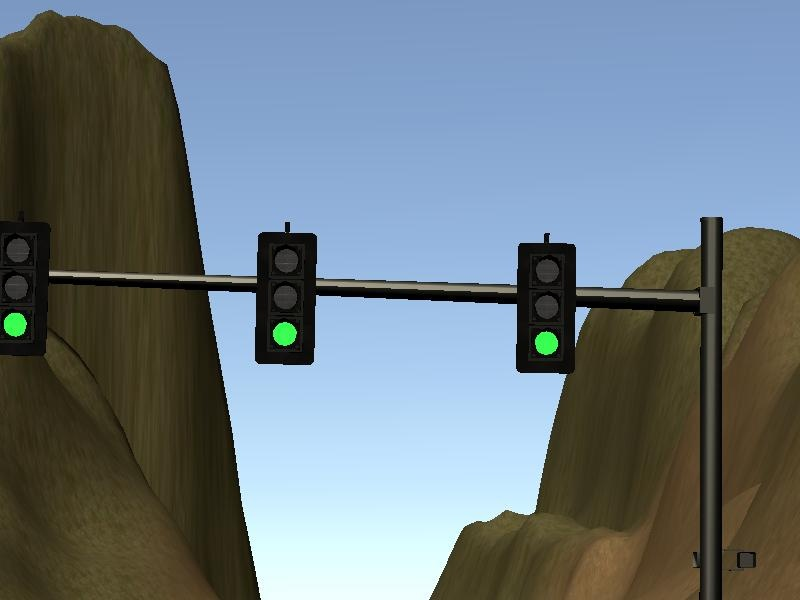traffic_light_green: (1, 214, 698, 377)
